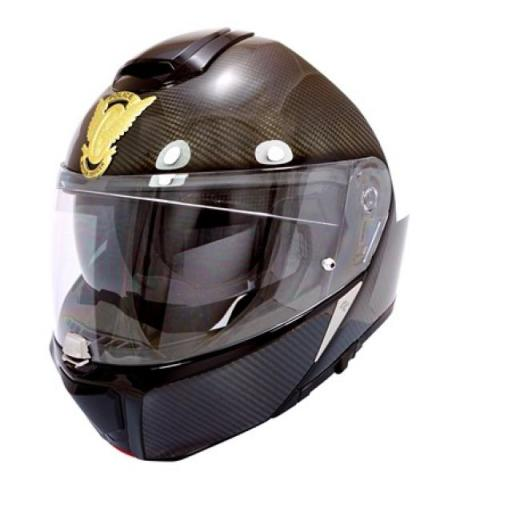Helmet: (52, 29, 406, 459)
